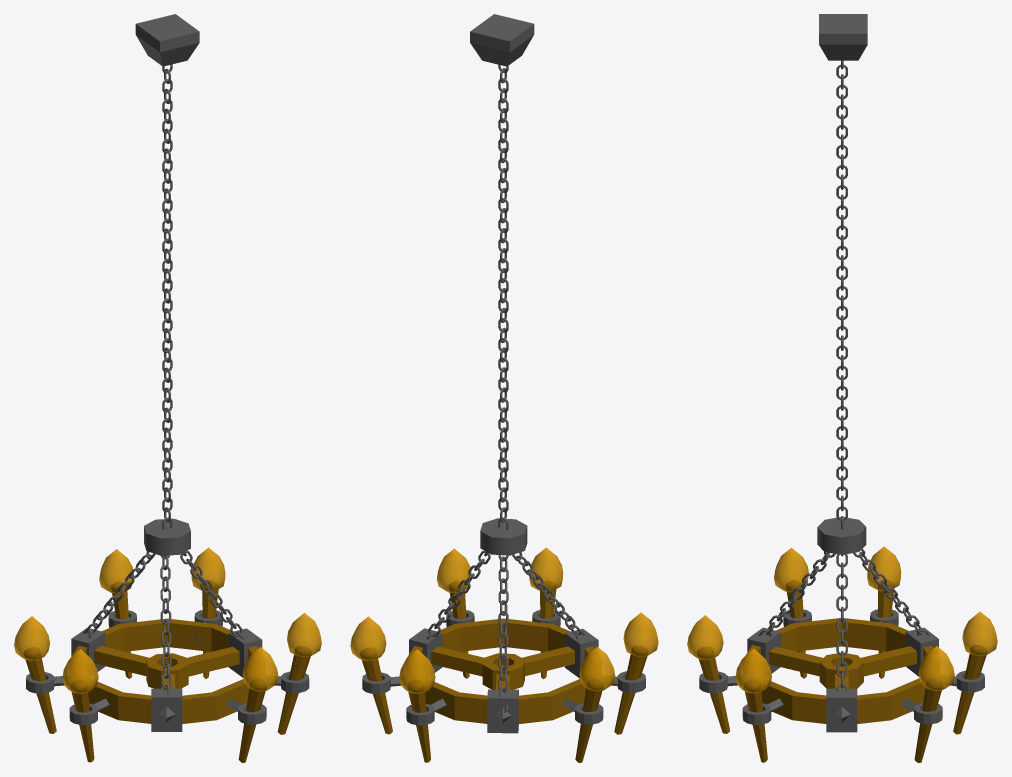
File: chandelier.fbx
3 renders of one model, left to right at view 1: azimuth 30°, elevation 25°; view 2: azimuth 150°, elevation 25°; view 3: azimuth 270°, elevation 25°, orthographic.
Parts seen in each view (by area): view 1: base, metal_base, pCylinder4 (×6), pCylinder3 (×4), chain_main, chain_end; view 2: base, metal_base, pCylinder4 (×6), pCylinder3 (×4), chain_main, chain_end; view 3: base, metal_base, pCylinder4 (×6), pCylinder3 (×4), chain_main, chain_end.
Boxes of the visible parts, box(x1,y1,x2,y2) form: base: box(71, 618, 258, 723); metal_base: box(71, 518, 262, 731); pCylinder4 (×6): box(14, 547, 321, 693); pCylinder3 (×4): box(24, 646, 311, 762); chain_main: box(162, 64, 172, 529); chain_end: box(135, 14, 199, 66); base: box(406, 618, 594, 723); metal_base: box(409, 518, 598, 733); pCylinder4 (×6): box(350, 547, 658, 693); pCylinder3 (×4): box(360, 646, 648, 762); chain_main: box(498, 64, 508, 529); chain_end: box(470, 14, 534, 66); base: box(746, 618, 933, 723); metal_base: box(747, 517, 938, 732); pCylinder4 (×6): box(687, 546, 997, 693); pCylinder3 (×4): box(697, 645, 987, 762); chain_main: box(836, 60, 847, 529); chain_end: box(819, 14, 867, 60).
Bounding box in the file's own units: 2217 × 6207 × 2488.
